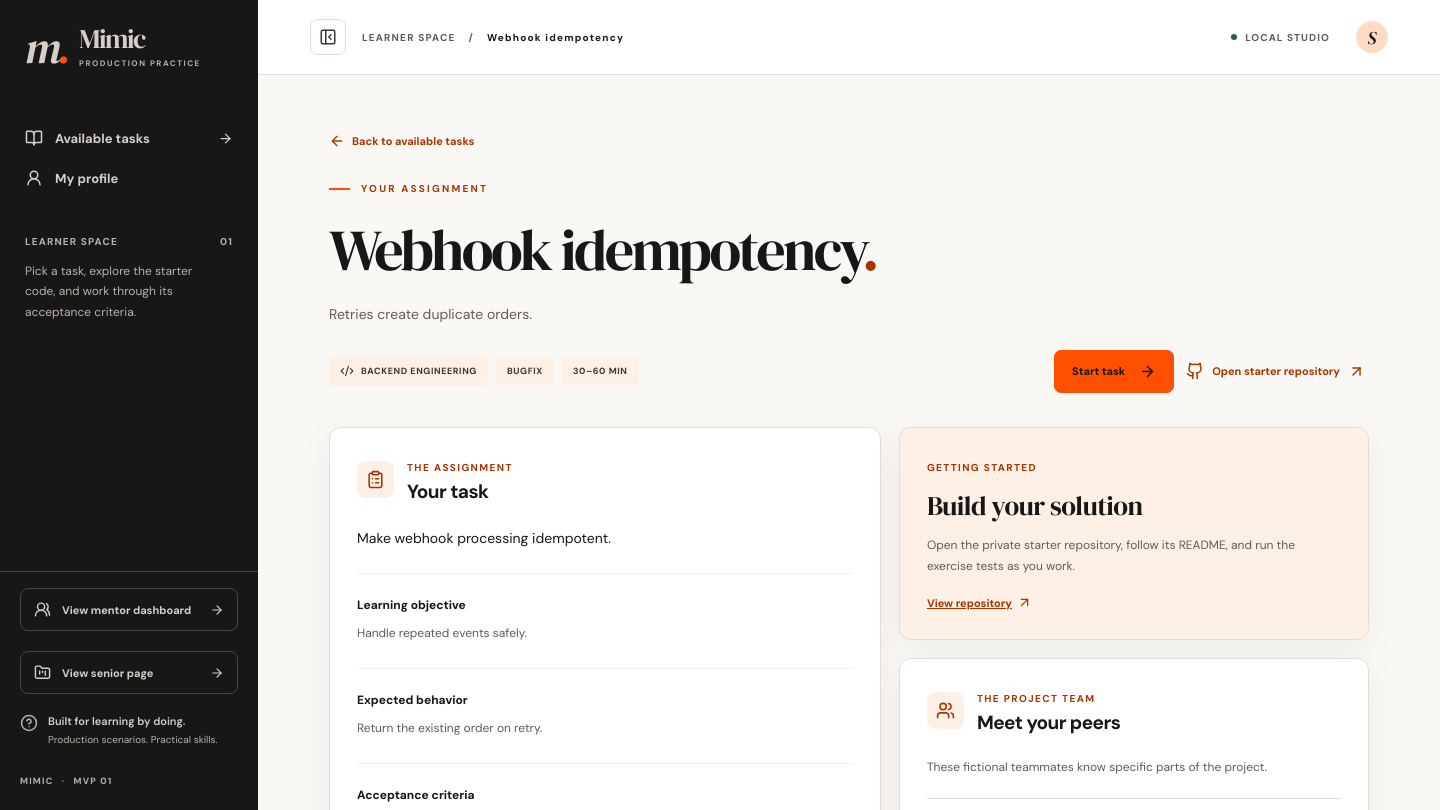
Scenario: closes a session that finishes starting after the learner leaves the workspace
This screenshot has width=1440, height=810.
Click the button "Start task".
click(1114, 371)  # box [1054,350,1174,393]
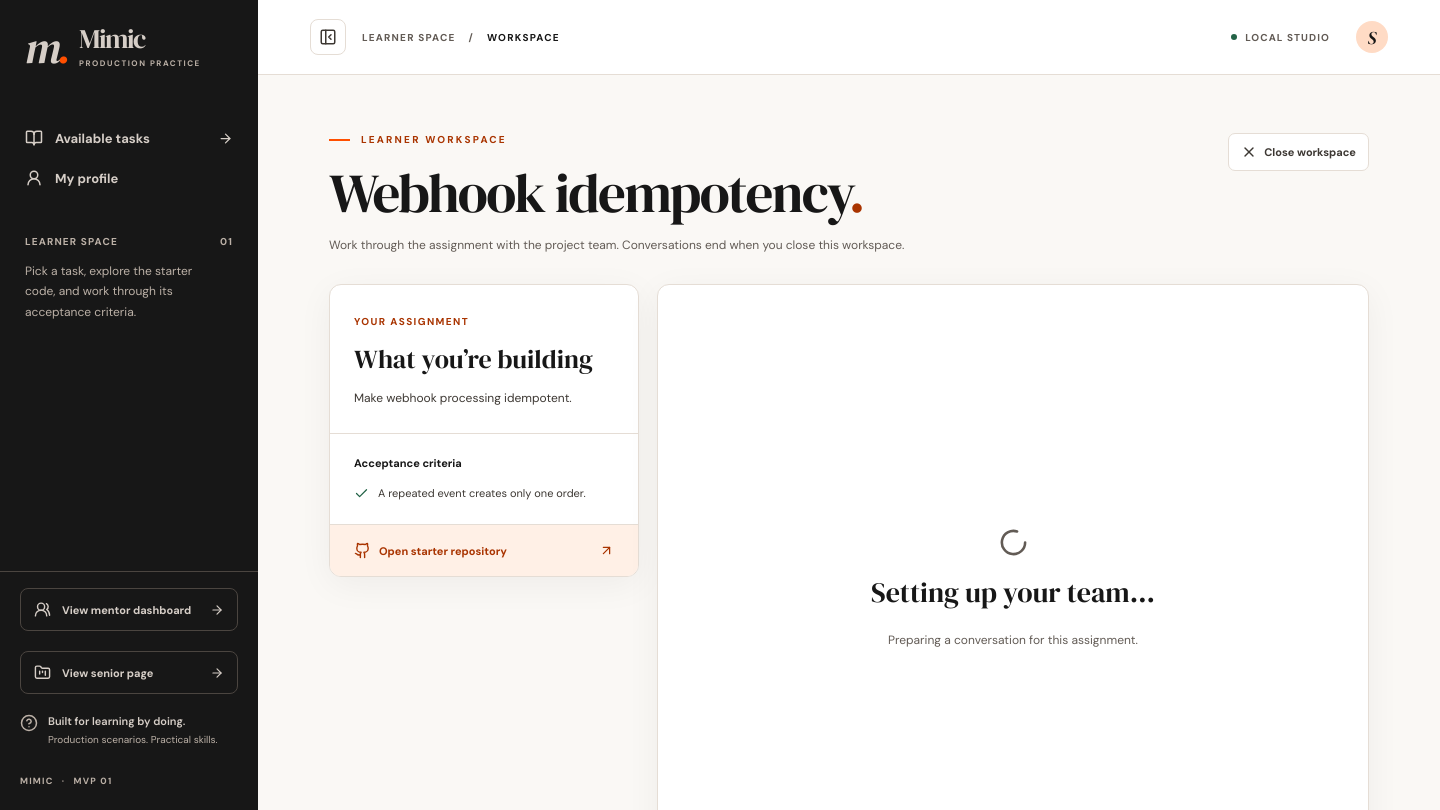
Check: the heading "Setting up your team…" is shown, box [871,573,1155,611]
Click the button "Close workspace".
click(1299, 152)  # box [1228,133,1369,171]
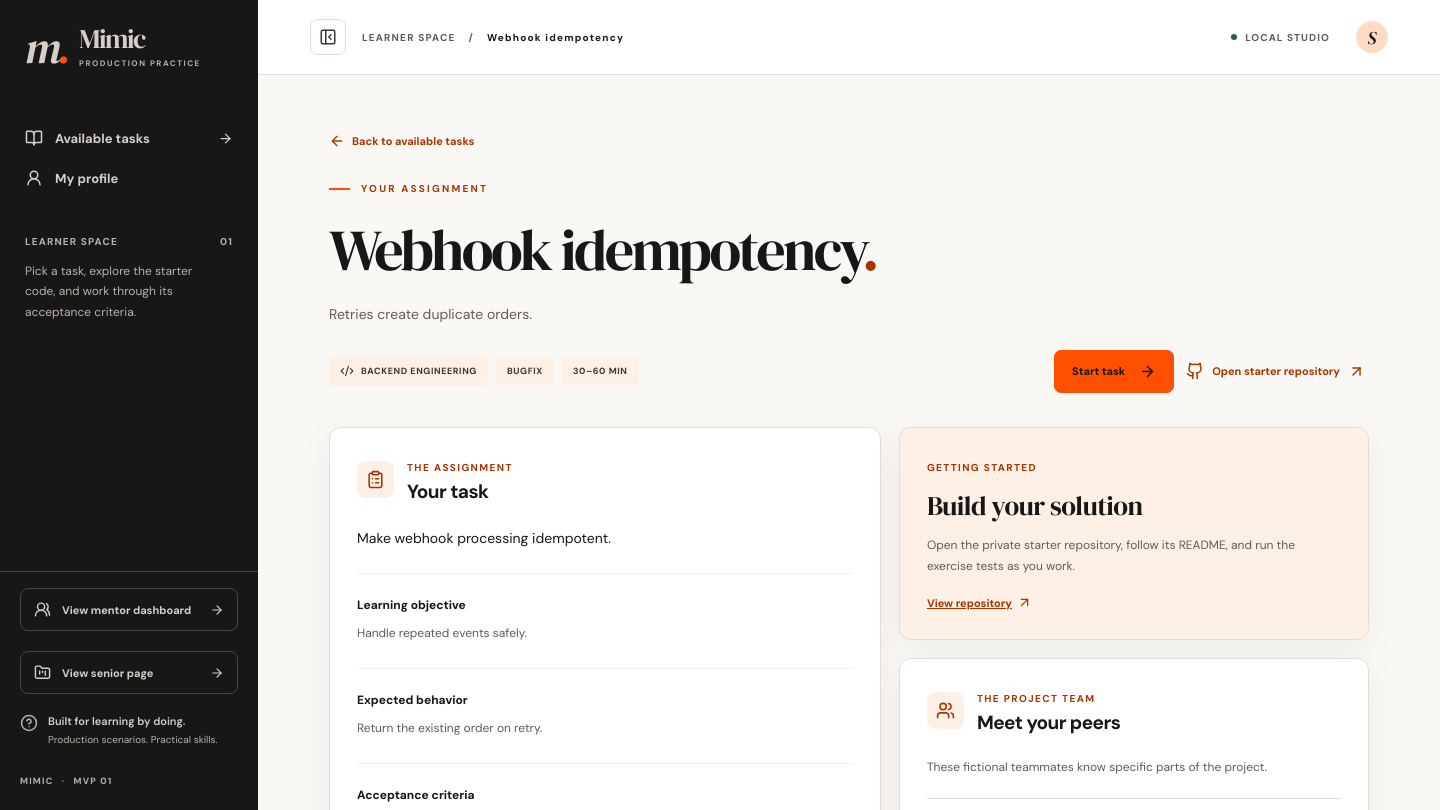
Check: the button "Start task" is shown, box [1054,350,1174,393]
Check: the text "Conversation" is gone
